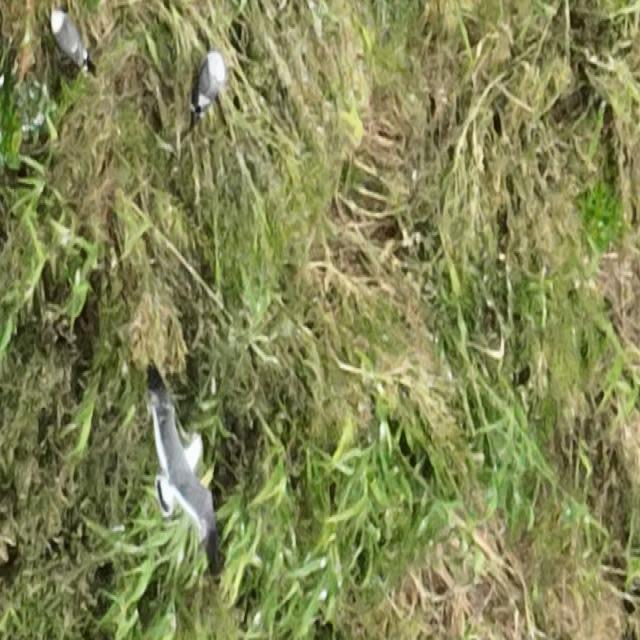F: (157, 401, 212, 540)
umineko: (52, 14, 84, 60), (200, 54, 226, 106)
